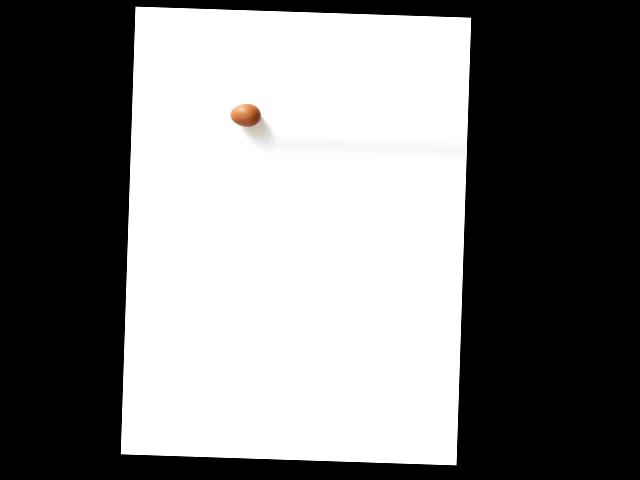egg: (230, 103, 261, 126)
